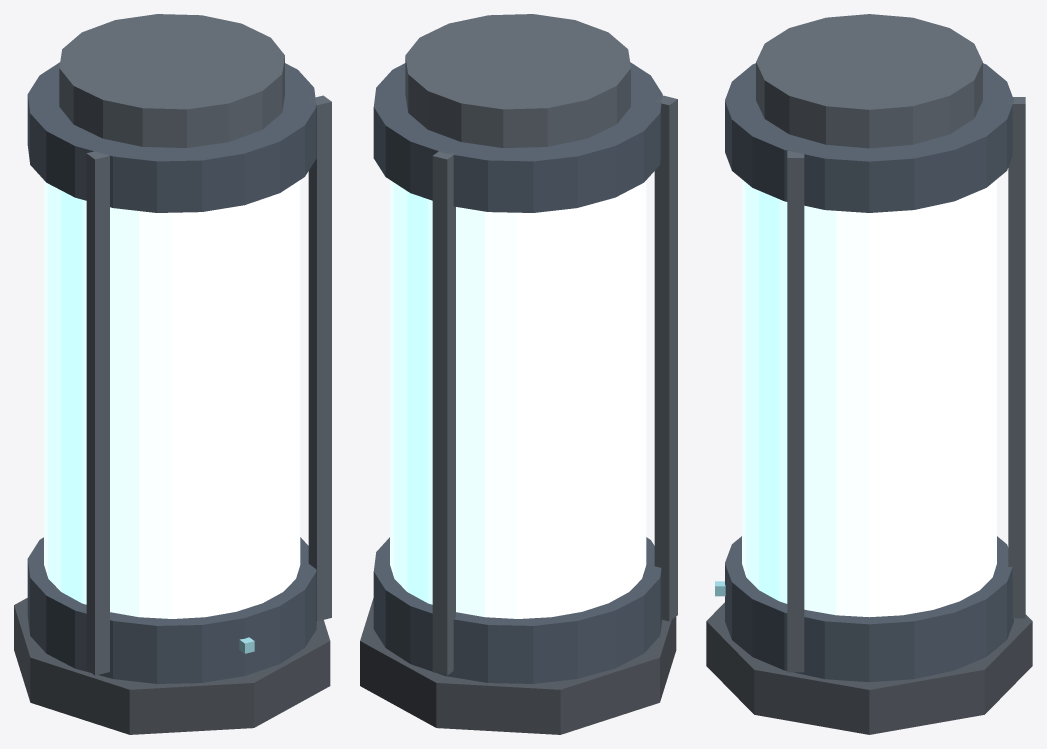
Rendered from Lab_Containment_B.fbx.
3 views of the same model, side by side, from view 1: azimuth 30°, elevation 25°; view 2: azimuth 150°, elevation 25°; view 3: azimuth 270°, elevation 25° (orthographic).
Visible parts, largest first — view 1: Lab_Containment_B; view 2: Lab_Containment_B; view 3: Lab_Containment_B.
Boxes of the visible parts, x1,y1,x2,y2 form: Lab_Containment_B: (14, 14, 331, 734); Lab_Containment_B: (360, 14, 677, 734); Lab_Containment_B: (706, 14, 1032, 734).
Bounding box in the file's own units: 2.3 × 4.7 × 2.3.
